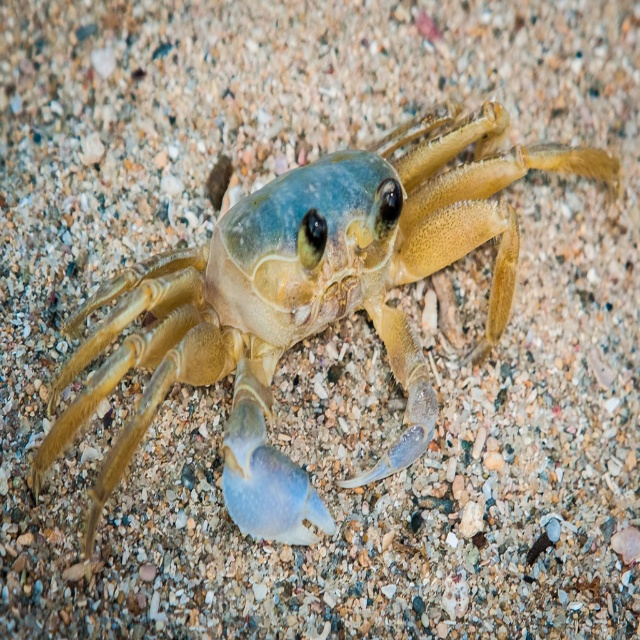Crab: (31, 95, 624, 580)
